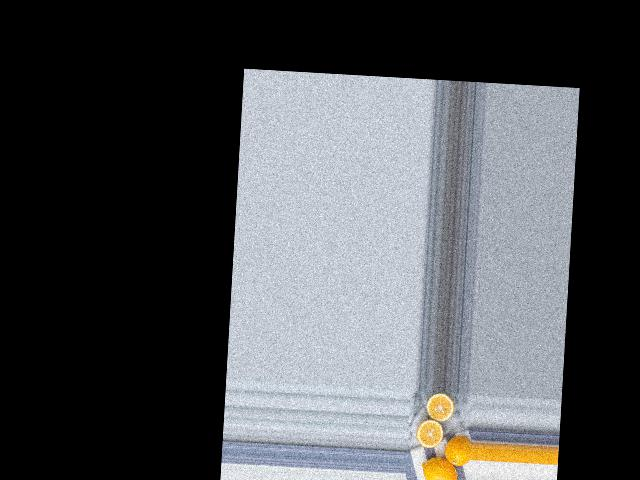lemon: (444, 438, 471, 466)
